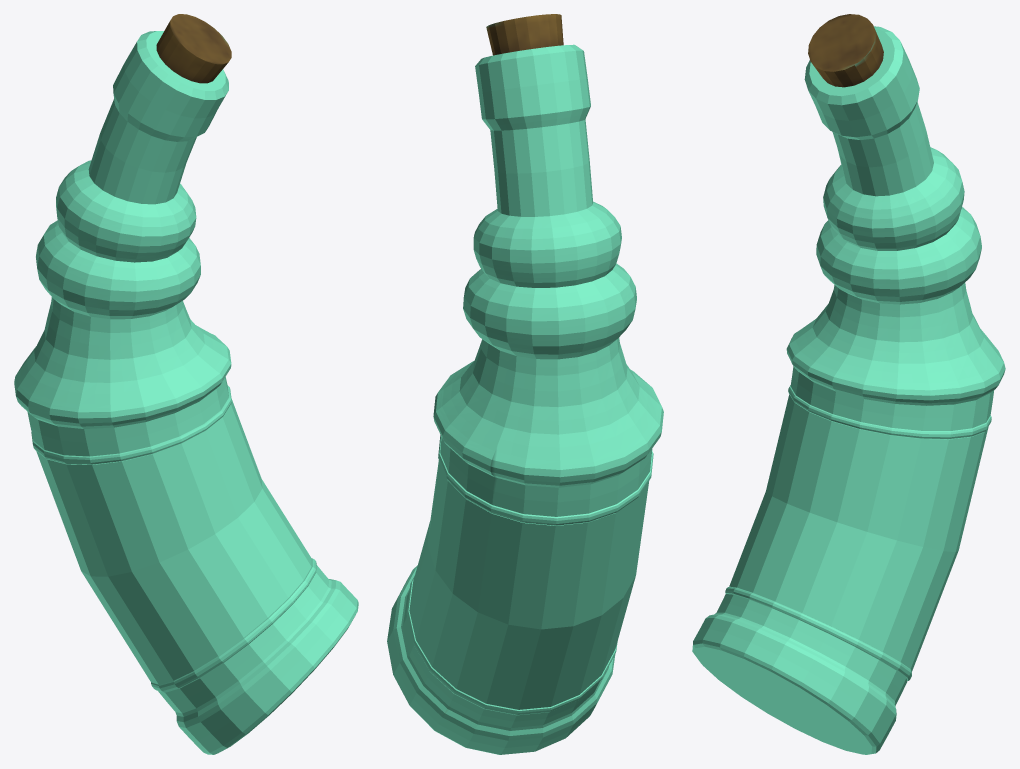
Rendered from bend_high_1.obj.
3 views of the same model, side by side, from view 1: azimuth 30°, elevation 25°; view 2: azimuth 150°, elevation 25°; view 3: azimuth 270°, elevation 25° (orthographic). The views are drawn at different scales.
Parts seen in each view (by area): view 1: model; view 2: model; view 3: model.
Boxes of the visible parts, left/top/right/bottom form: model: left=14, top=14, right=358, bottom=754; model: left=387, top=14, right=663, bottom=754; model: left=692, top=14, right=1005, bottom=754.
Bounding box in the file's own units: 0.1051 × 0.2602 × 0.1031.
1 material, 1 textured.
